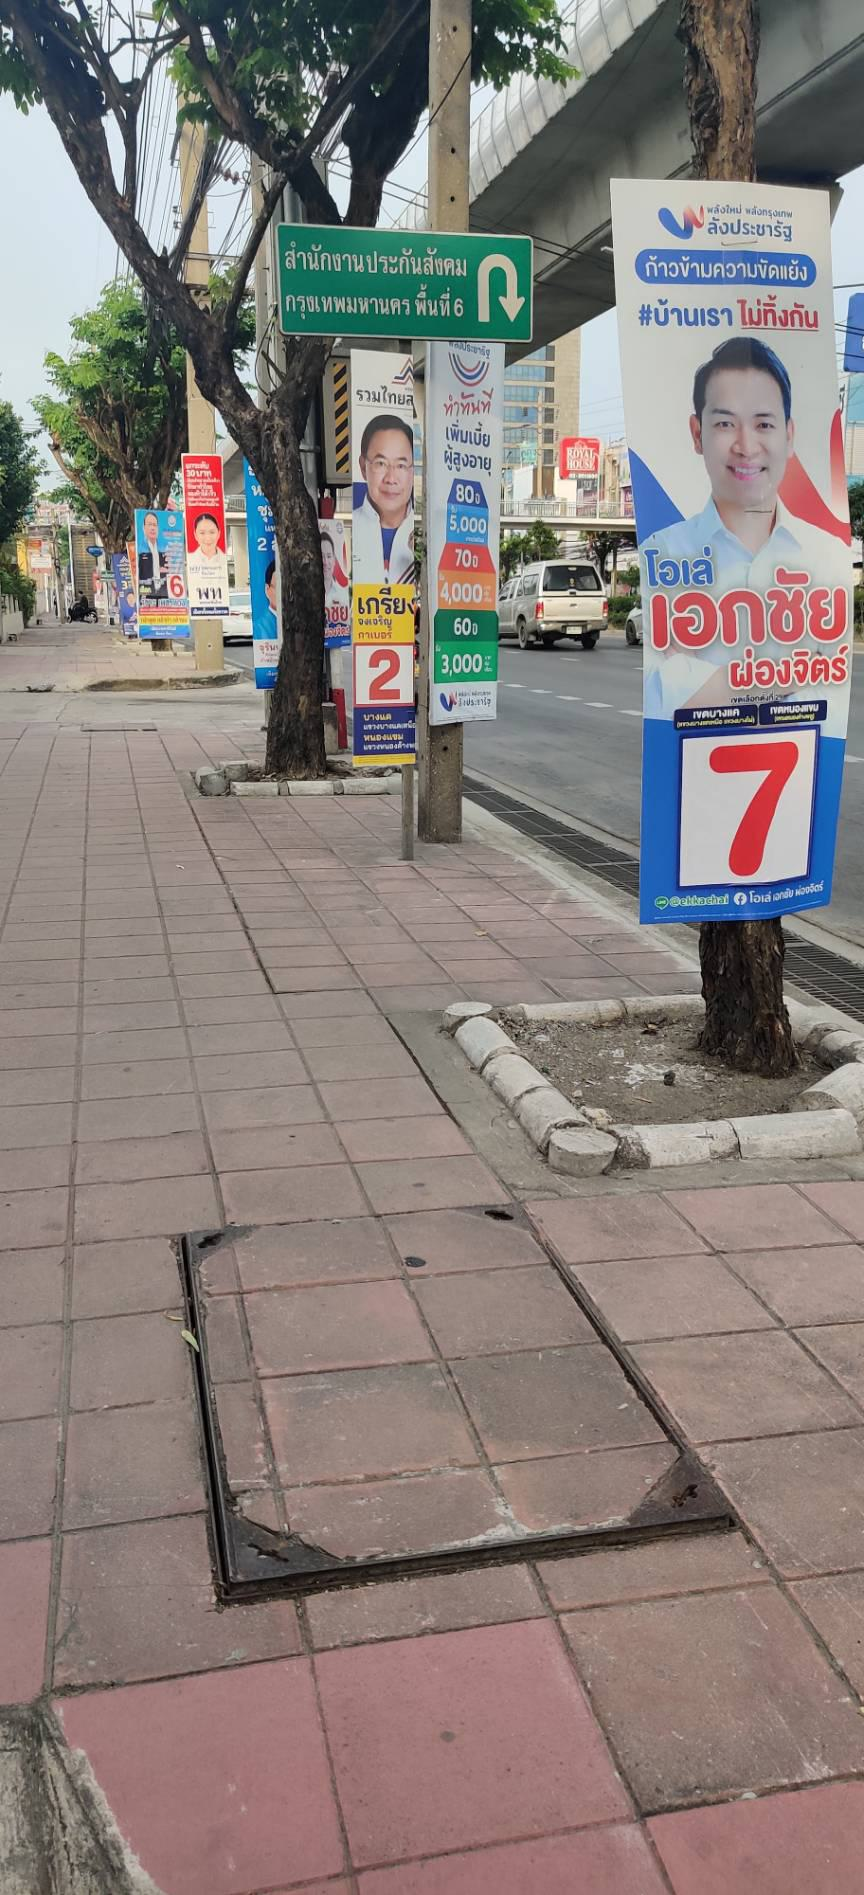Banner: (608, 176, 843, 918), (344, 350, 434, 771), (182, 450, 234, 615), (131, 508, 185, 649)
